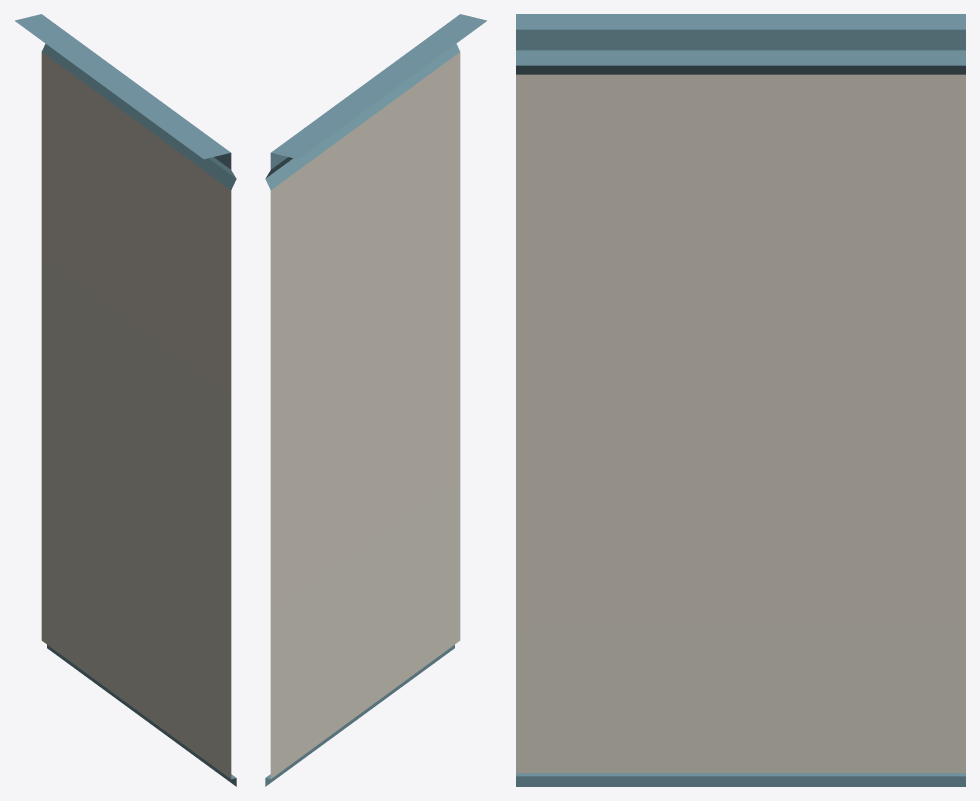
File: g_t_BathroomWall.fbx
3 renders of one model, left to right at view 1: azimuth 30°, elevation 25°; view 2: azimuth 150°, elevation 25°; view 3: azimuth 270°, elevation 25°, orthographic. The views are drawn at different scales.
Visible parts, largest first — view 1: g_t_BathroomWall; view 2: g_t_BathroomWall; view 3: g_t_BathroomWall.
Part boxes in pixels (x1,y1,x2,y2): g_t_BathroomWall: (15, 14, 236, 786); g_t_BathroomWall: (265, 14, 486, 786); g_t_BathroomWall: (516, 14, 965, 786).
Size of the model in its own units: 9.99 by 185 by 100.
